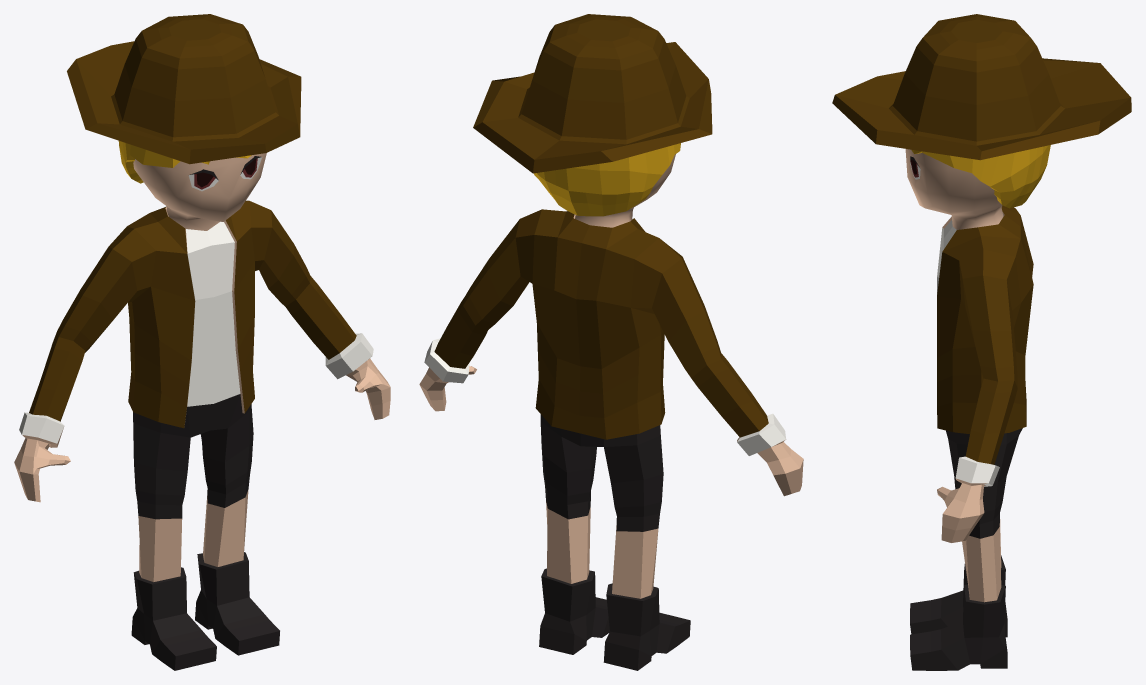
Rendered from newthings.fbx.
The picture shows the model from 3 angles, left to right: view 1: azimuth 30°, elevation 25°; view 2: azimuth 150°, elevation 25°; view 3: azimuth 270°, elevation 25°; orthographic projection. The views are drawn at different scales.
Visible parts, largest first — view 1: Character; view 2: Character; view 3: Character.
Boxes of the visible parts, x1=… form: Character: x1=14, y1=14, x2=390, y2=670; Character: x1=419, y1=14, x2=803, y2=670; Character: x1=832, y1=14, x2=1131, y2=670.
Bounding box in the file's own units: 132 × 208 × 91.89.
